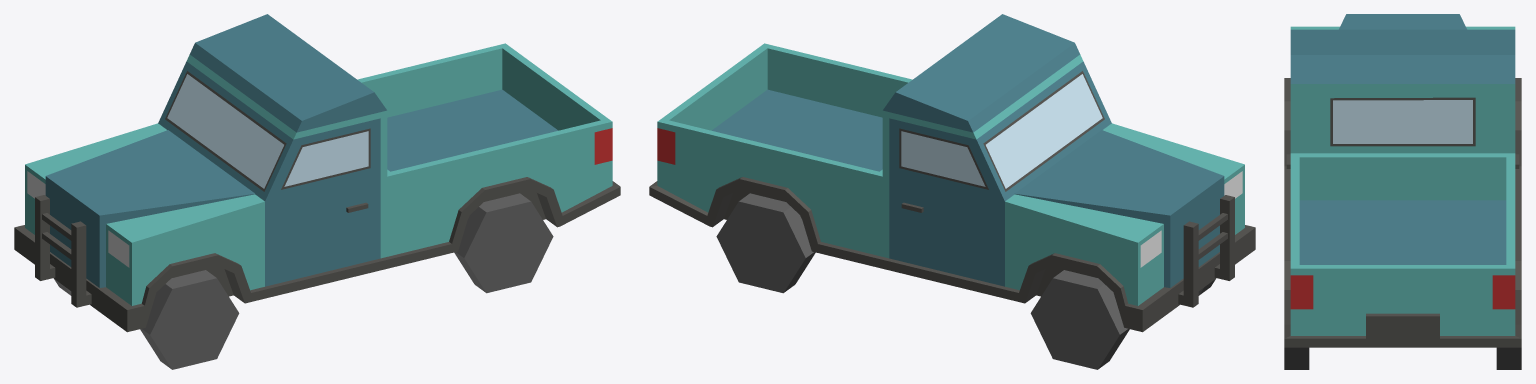
The model's file is Pickup_3.fbx.
3 views of the same model, side by side, from view 1: azimuth 30°, elevation 25°; view 2: azimuth 150°, elevation 25°; view 3: azimuth 270°, elevation 25° (orthographic). The views are drawn at different scales.
Parts seen in each view (by area): view 1: Pickup_3; view 2: Pickup_3; view 3: Pickup_3.
Part boxes in pixels (box(x1,y1,x2,y2)): Pickup_3: box(14, 14, 620, 369); Pickup_3: box(649, 14, 1255, 369); Pickup_3: box(1284, 14, 1521, 369).
Size of the model in its own units: 7.79 by 3.3 by 3.01.
1 material, 1 textured.
